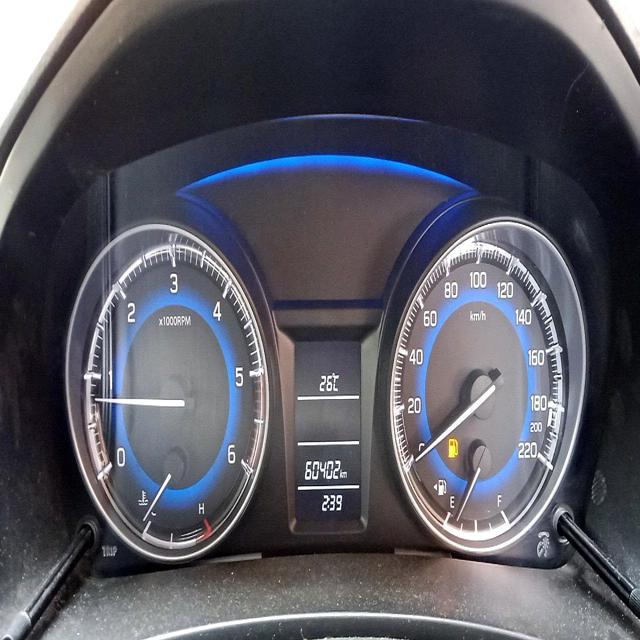odometer: (303, 455, 343, 481)
